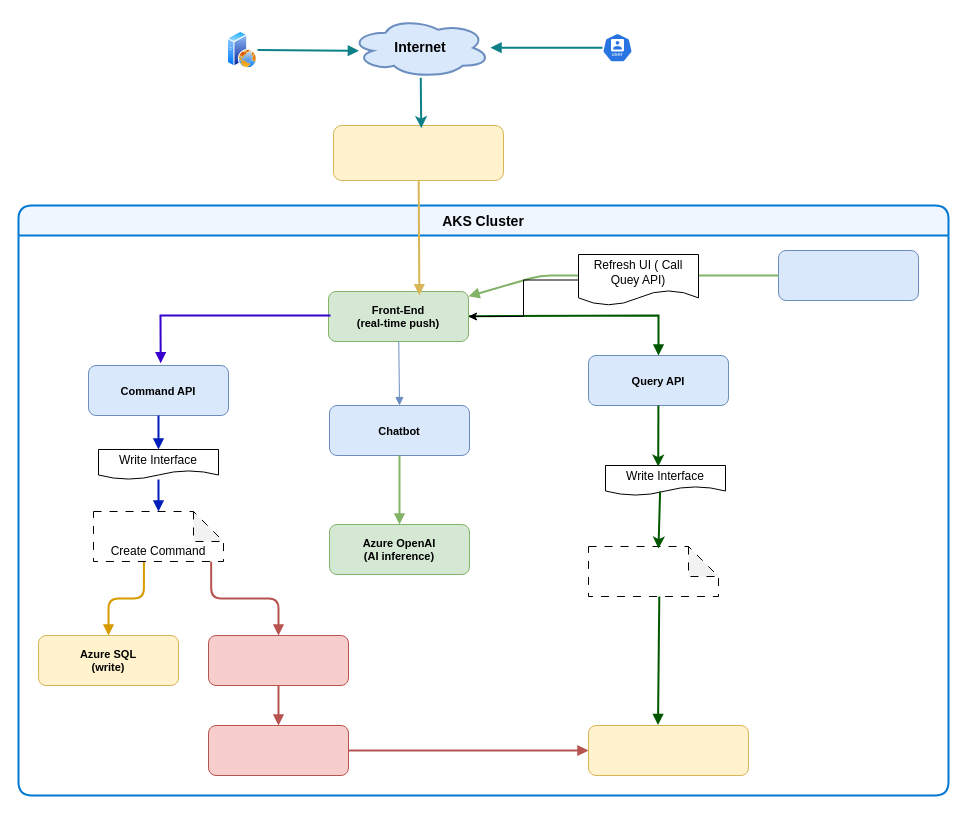
The diagram is 966 pixels wide and 814 high, and some of its shapes have lost their labels. Here are the shapes that lost their labels. From the top down, the box of each, then its label:
(332, 124, 504, 180): App Gateway for Containers (WAF + TLS termination)
(778, 250, 918, 300): SignalR Hub
(588, 546, 718, 596): Quey Builder
(208, 634, 348, 686): Service Bus (publish event)
(208, 724, 348, 776): Worker / Broker
(588, 724, 748, 776): Cosmos DB (project read model)
